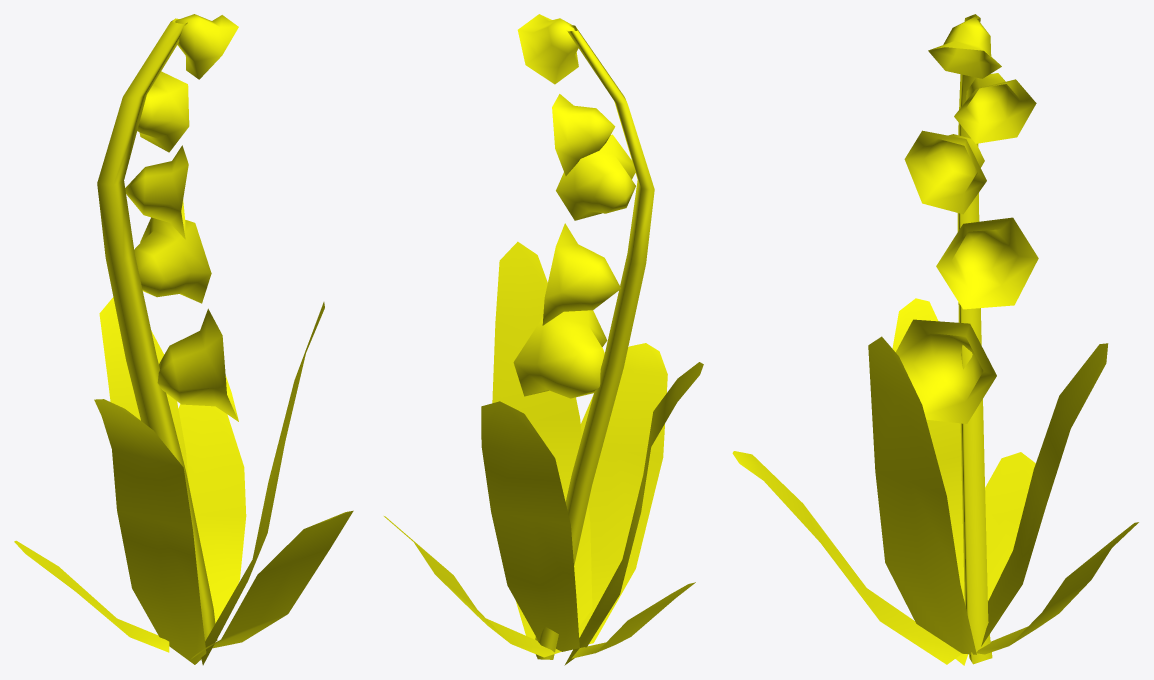
The model's file is LilyStalk_1.fbx.
3 renders of one model, left to right at view 1: azimuth 30°, elevation 25°; view 2: azimuth 150°, elevation 25°; view 3: azimuth 270°, elevation 25°, orthographic.
Parts seen in each view (by area): view 1: LilyStalk_1; view 2: LilyStalk_1; view 3: LilyStalk_1.
Part boxes in pixels (x1,y1,x2,y2): LilyStalk_1: (14, 14, 353, 665); LilyStalk_1: (384, 14, 703, 665); LilyStalk_1: (732, 14, 1138, 665).
Bounding box in the file's own units: 72.51 × 174 × 99.37.
